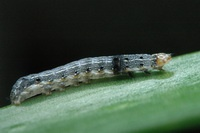insect: (10, 53, 170, 103)
